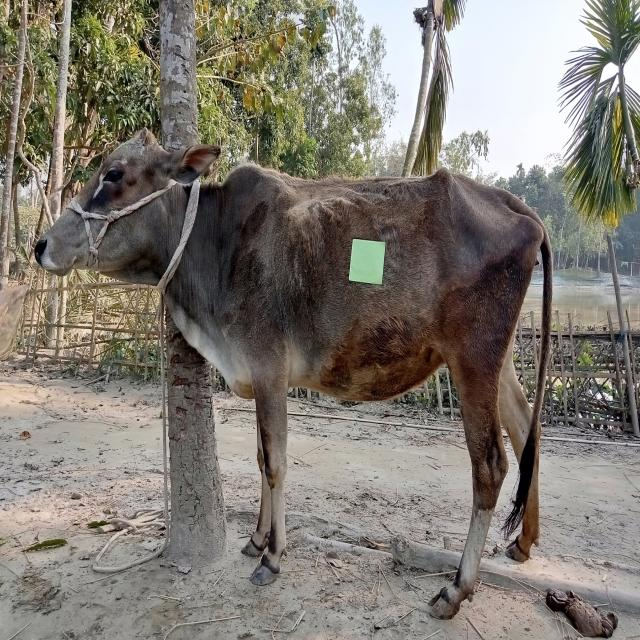badan_sapi: (252, 184, 506, 395)
sapi: (31, 122, 556, 626)
